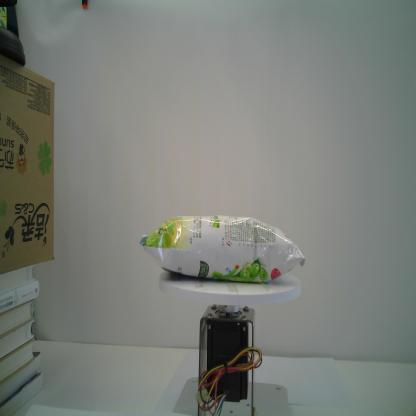Puffed Food: (139, 214, 305, 285)
